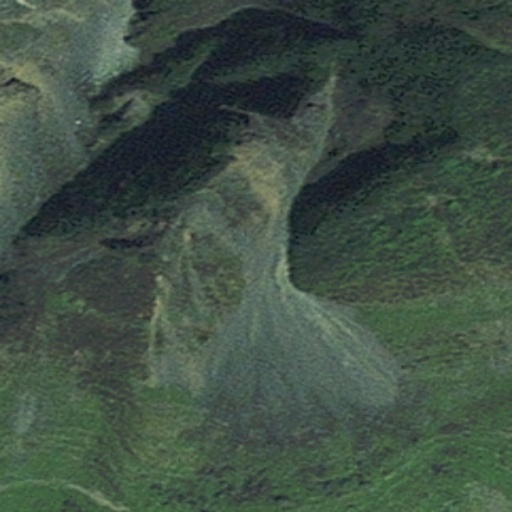landslide: (146, 93, 335, 390)
